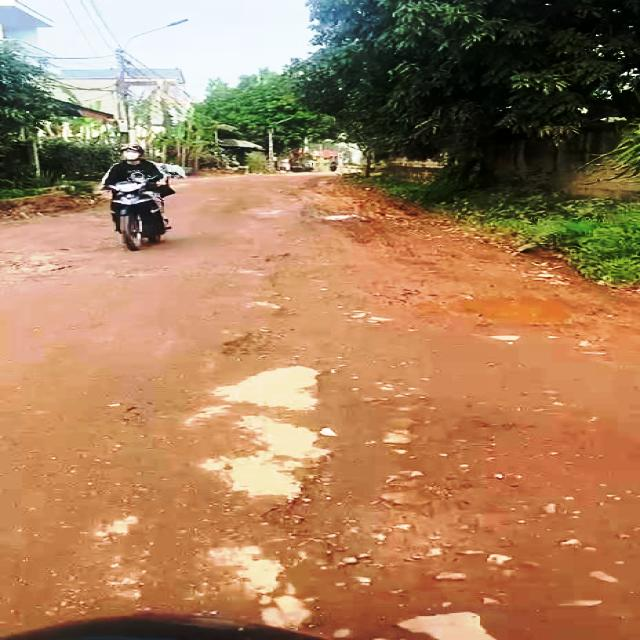pothole: (264, 449, 442, 569), (427, 287, 590, 330), (0, 255, 86, 280)
